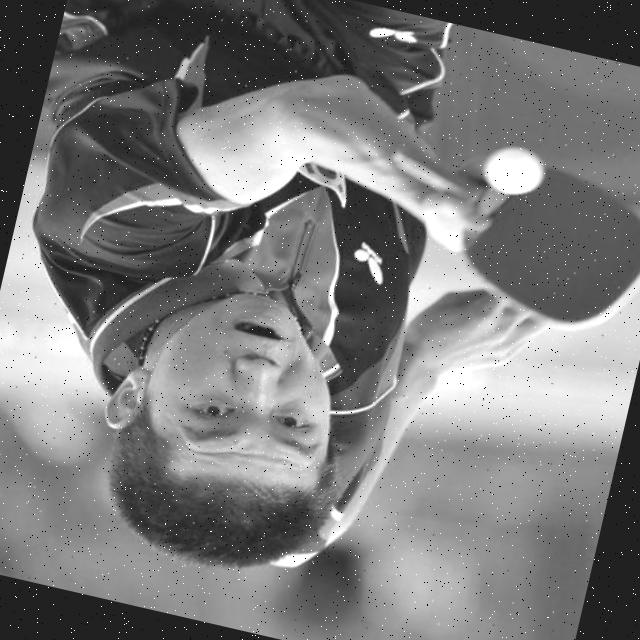ping-pong-ball: (476, 136, 550, 201)
